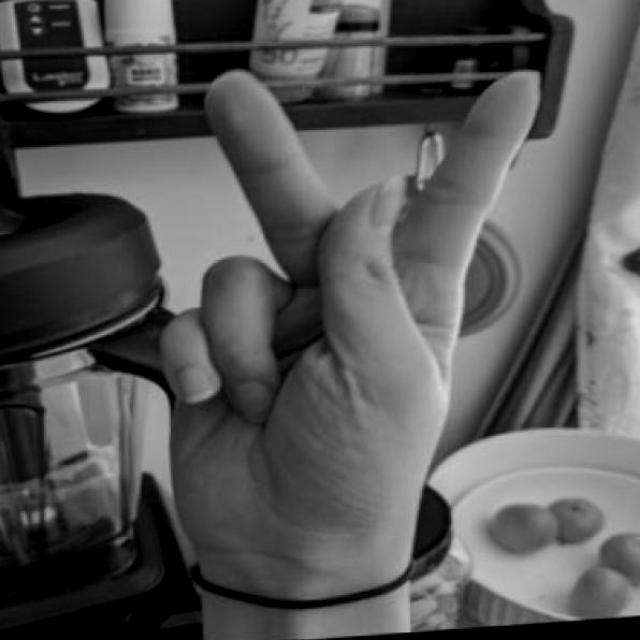K: (143, 58, 561, 622)
